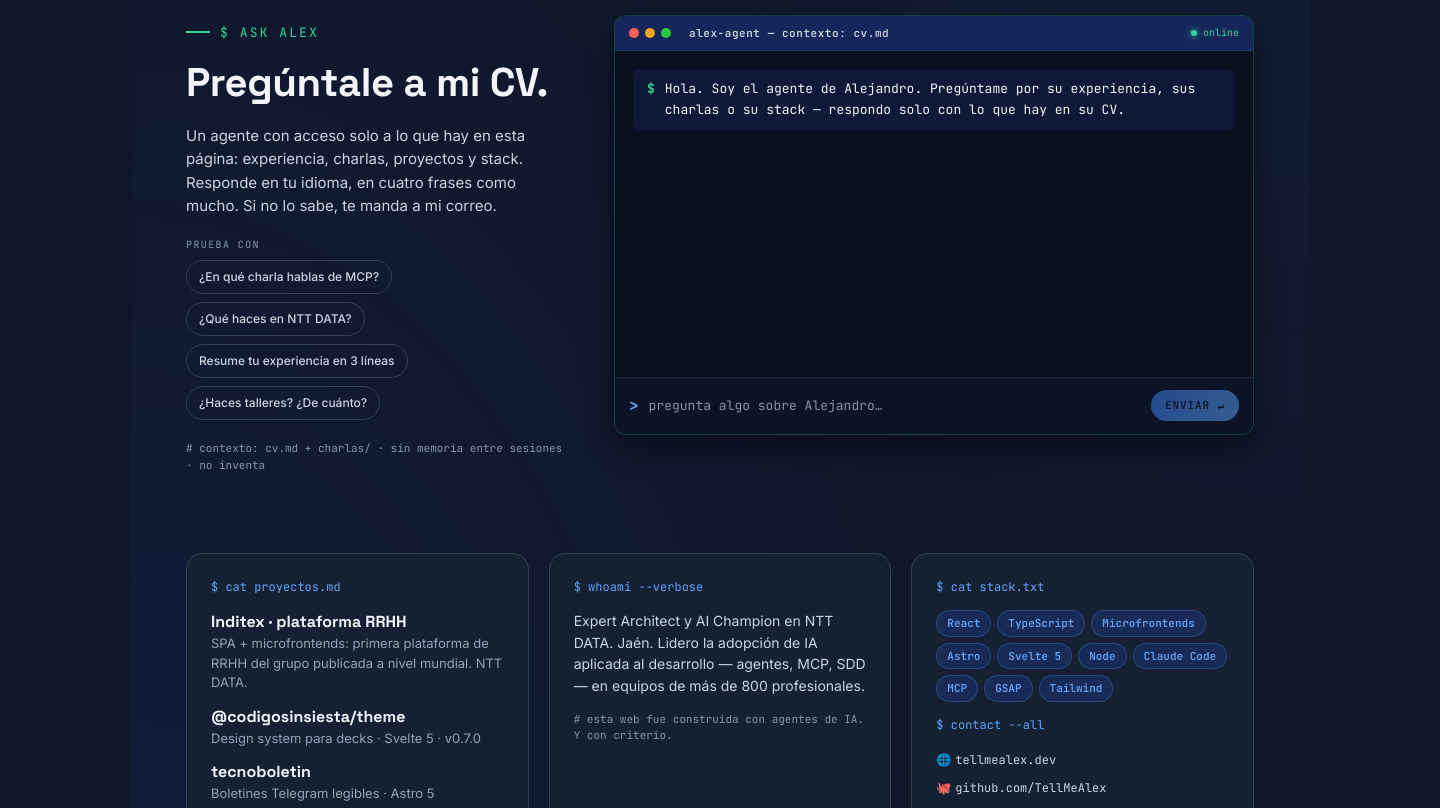
Test case: App › shows a friendly error when the agent endpoint fails
(page scrolled)
Type "hola" into the field labelled "pregunta algo sobre Alejandro…" at (895, 406), box [649,390,1141,422]
Then press Enter
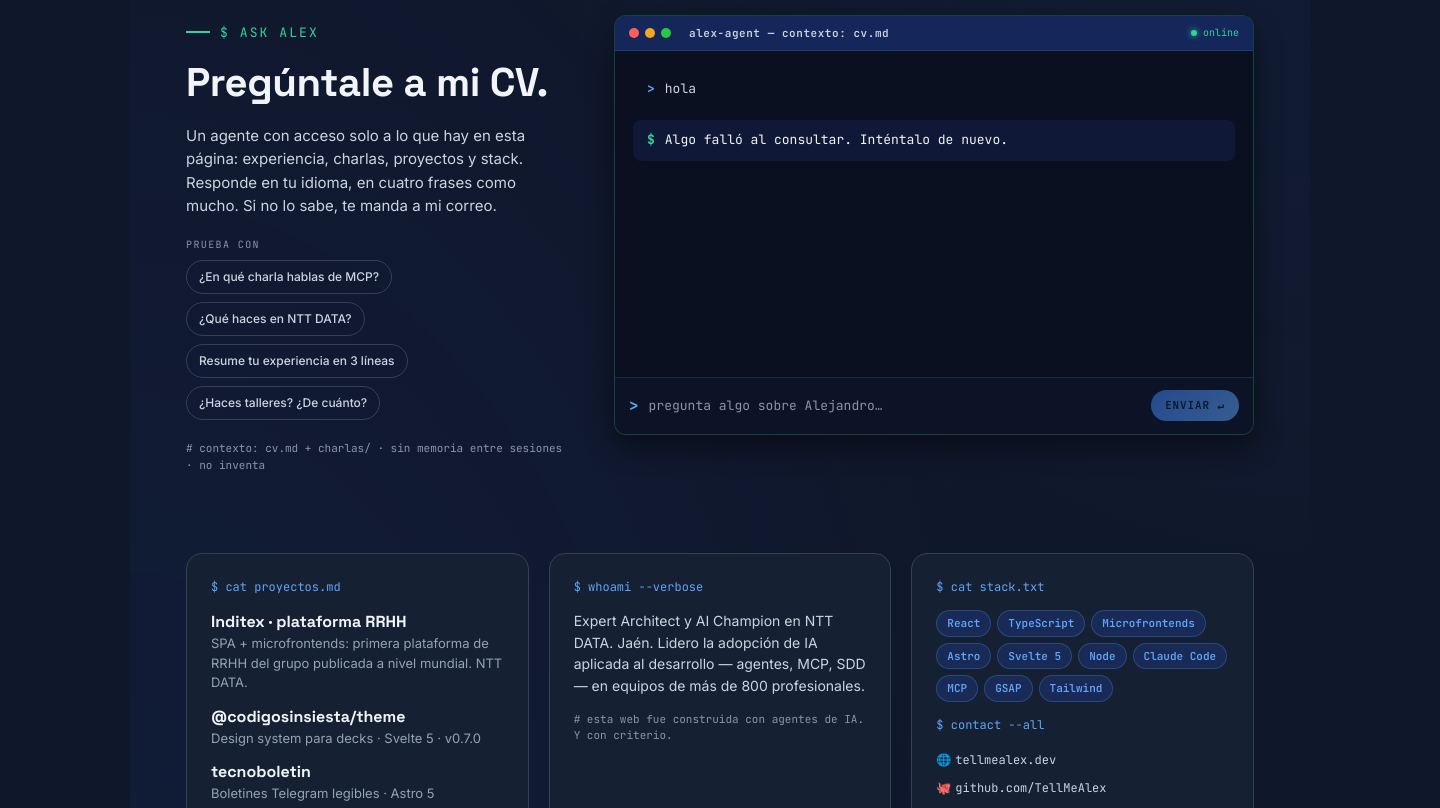
Check: the text "Algo falló al consultar. Inténtalo de nuevo." is shown, box [665,130,1008,151]
